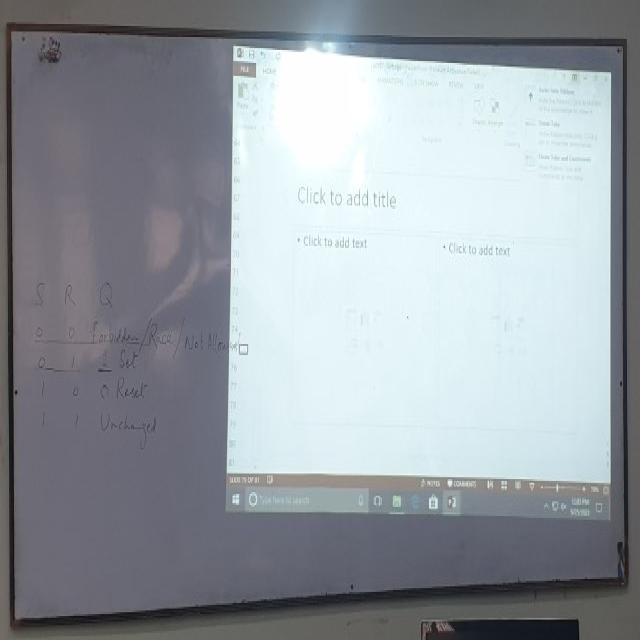Slide: (227, 40, 613, 521)
White-board: (9, 25, 628, 625)
